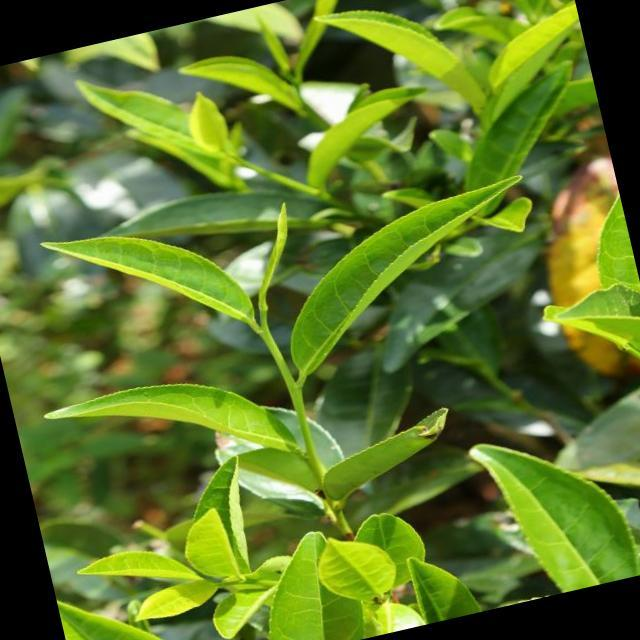Stem: (258, 327, 275, 345)
